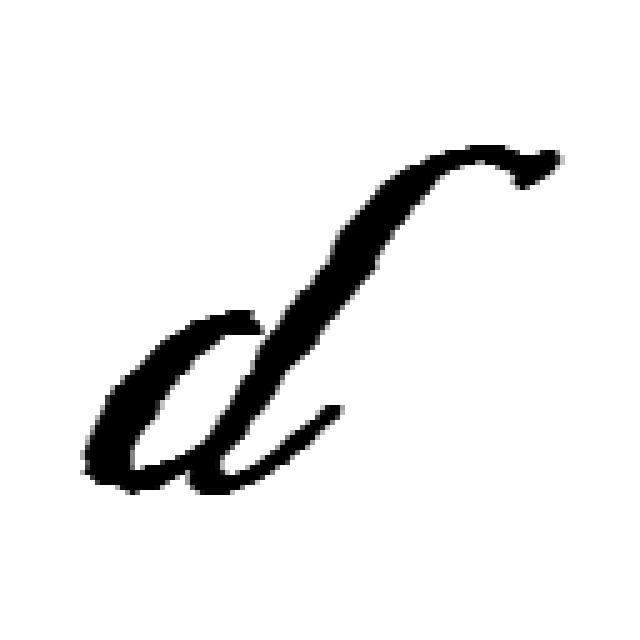D: (86, 136, 408, 508)
